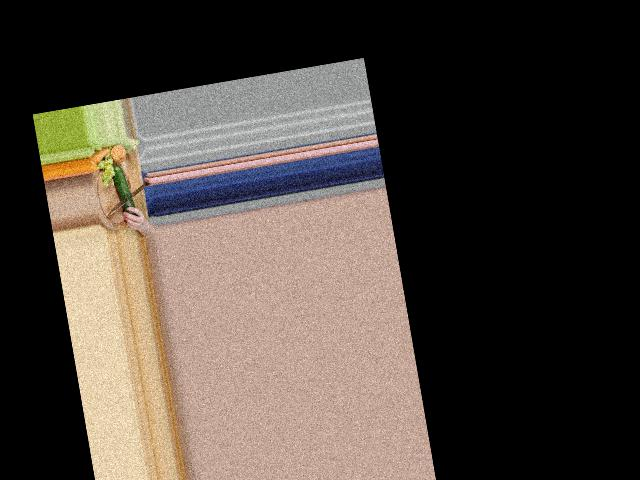cucumber: (111, 162, 136, 218)
